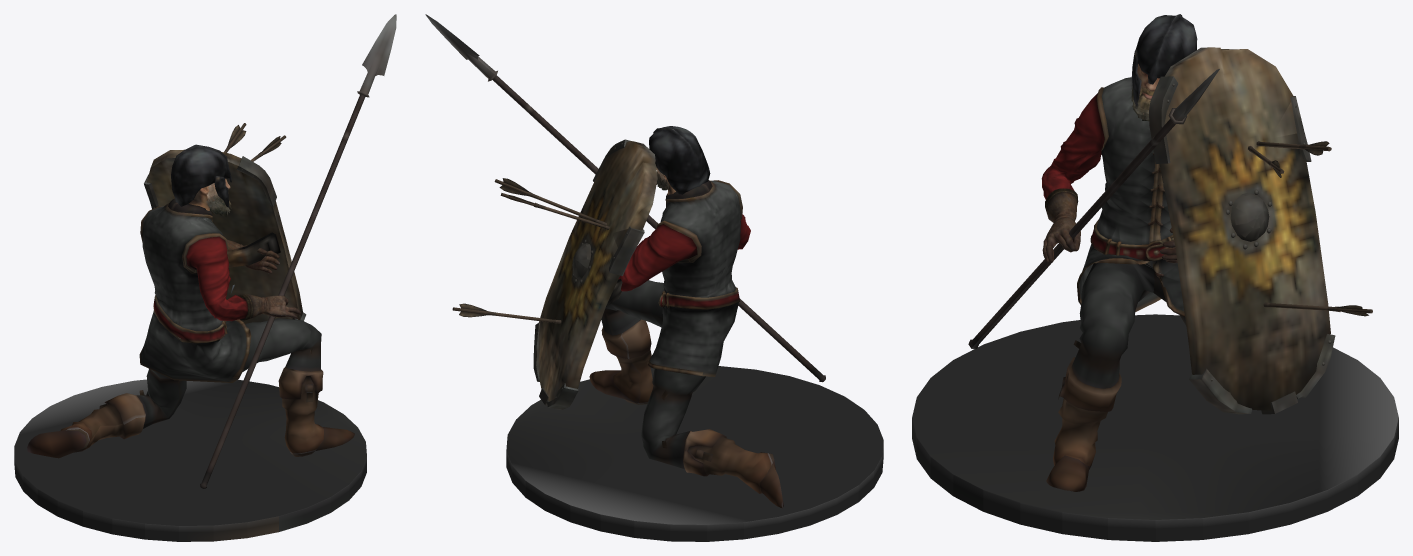
The picture shows the model from 3 angles, left to right: view 1: azimuth 30°, elevation 25°; view 2: azimuth 150°, elevation 25°; view 3: azimuth 270°, elevation 25°; orthographic projection. The views are drawn at different scales.
Parts seen in each view (by area): view 1: bolt.smd; view 2: bolt.smd; view 3: bolt.smd.
Part boxes in pixels (x1,y1,x2,y2): bolt.smd: [14, 14, 396, 541]; bolt.smd: [425, 14, 883, 541]; bolt.smd: [912, 14, 1398, 541].
Size of the model in its own units: 2.26 by 2.15 by 1.81.
1 material, 1 textured.
